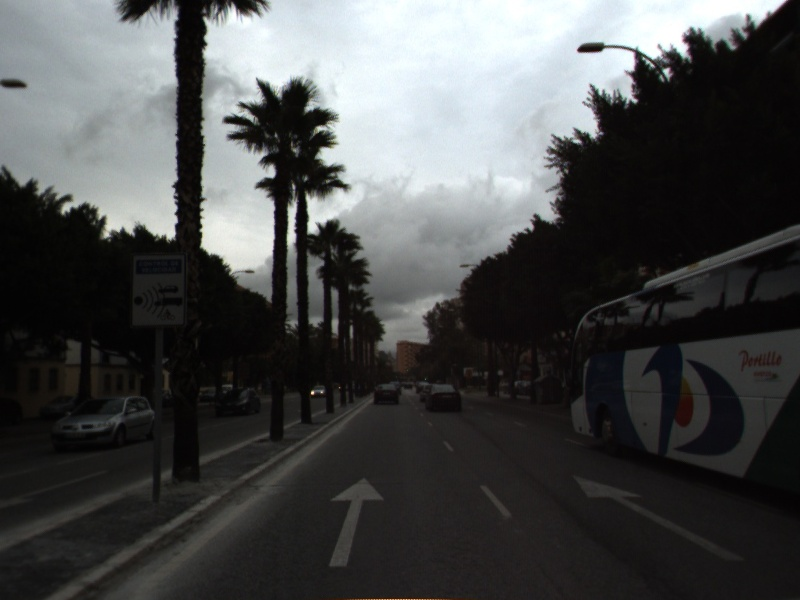STRAIGHT: (569, 472, 748, 564), (327, 476, 388, 568)
